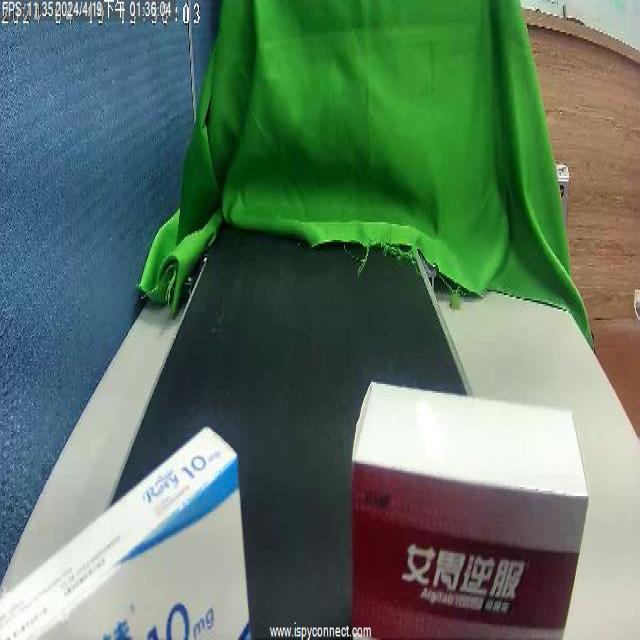box: (339, 428, 561, 628), (10, 453, 231, 640)
